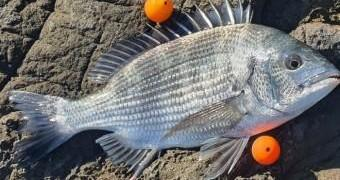fish: (8, 0, 339, 179)
